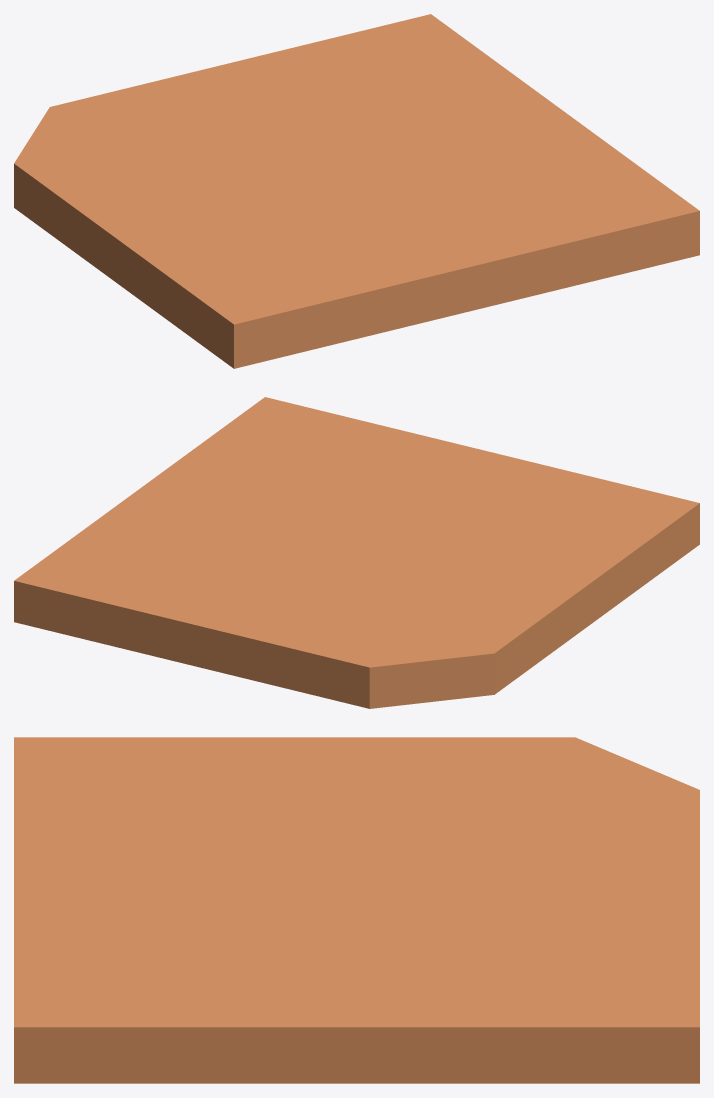
Rendered from Floor Corner.fbx.
The picture shows the model from 3 angles, top to bottom: view 1: azimuth 30°, elevation 25°; view 2: azimuth 150°, elevation 25°; view 3: azimuth 270°, elevation 25°; orthographic projection. The views are drawn at different scales.
Parts seen in each view (by area): view 1: floorCorner; view 2: floorCorner; view 3: floorCorner.
Boxes of the visible parts, x1,y1,x2,y2 form: floorCorner: (14,14,699,368); floorCorner: (14,397,699,708); floorCorner: (14,737,699,1083).
Size of the model in its own units: 5.5 by 0.5 by 5.5.
